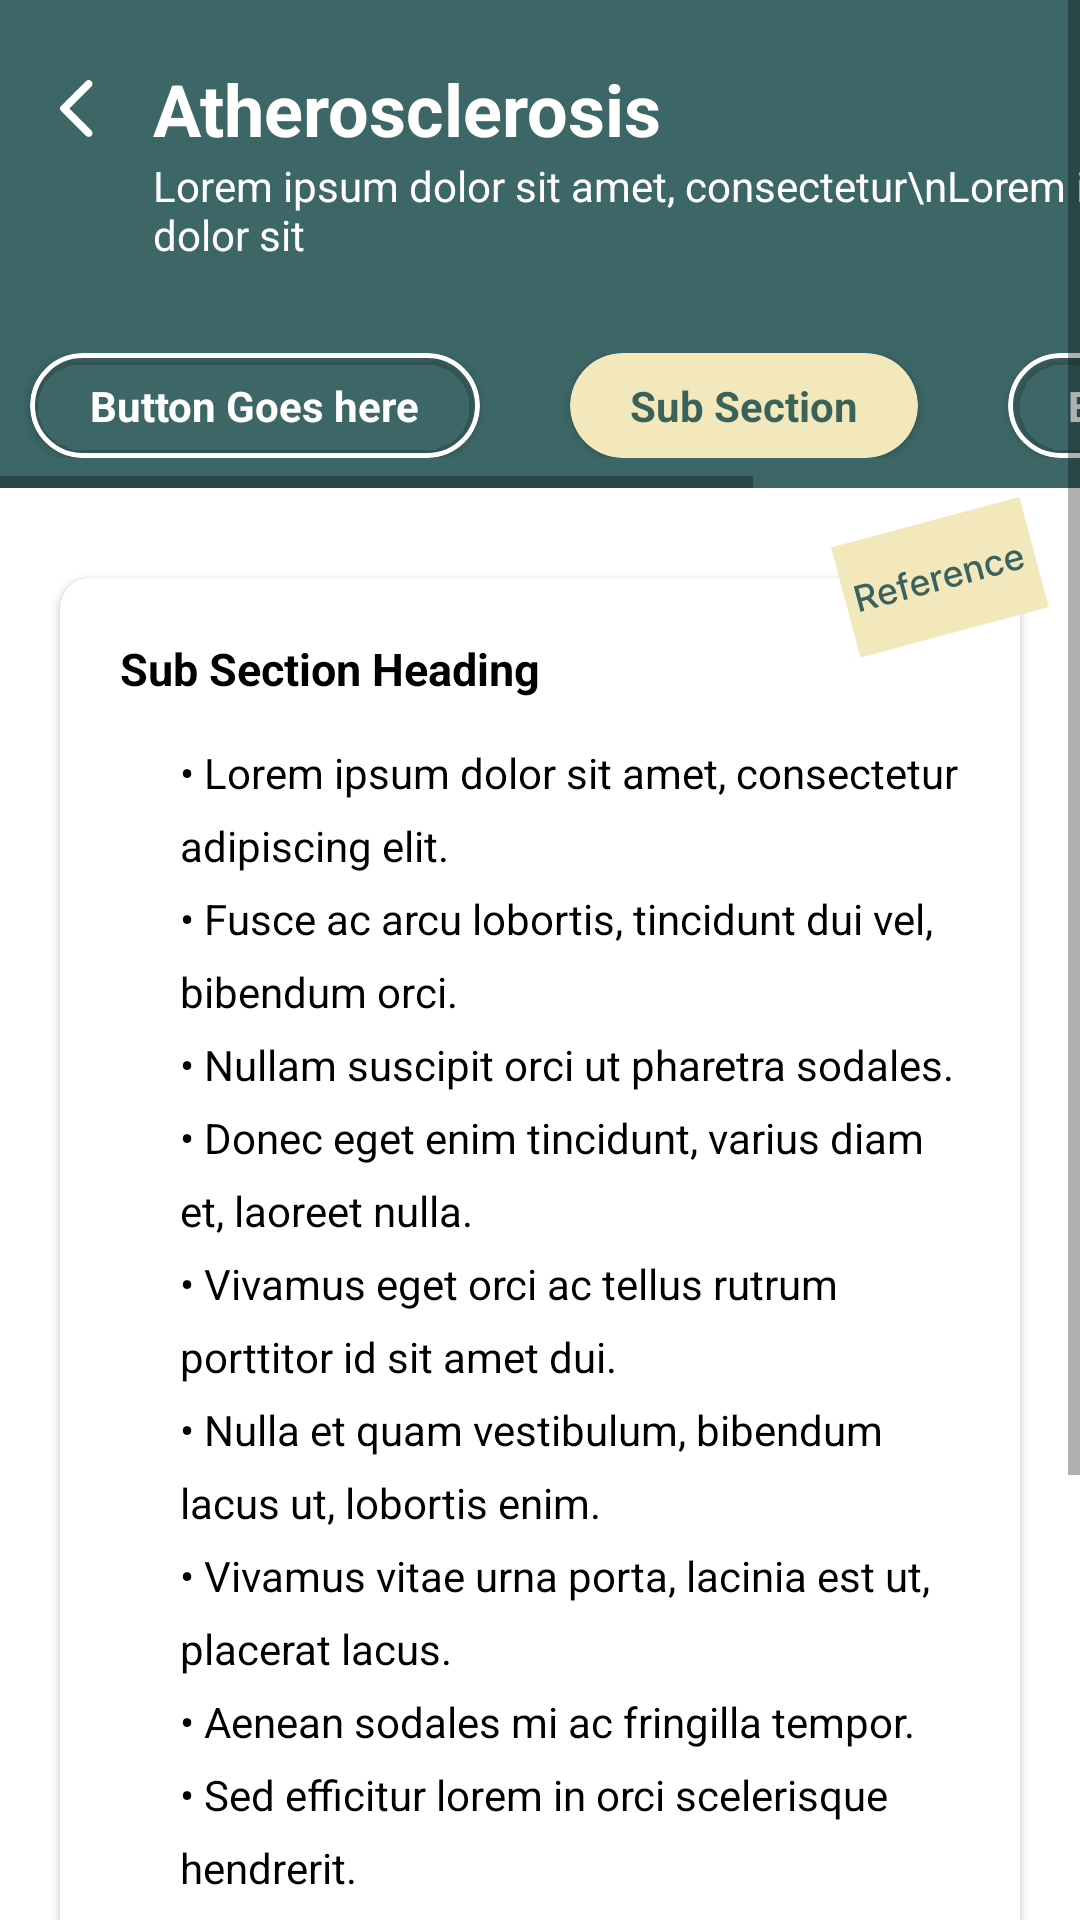

Icons on this 1080*1920 Android screen, each with its box as [x1, y1, x2, y2]:
back: [60, 80, 93, 137]
